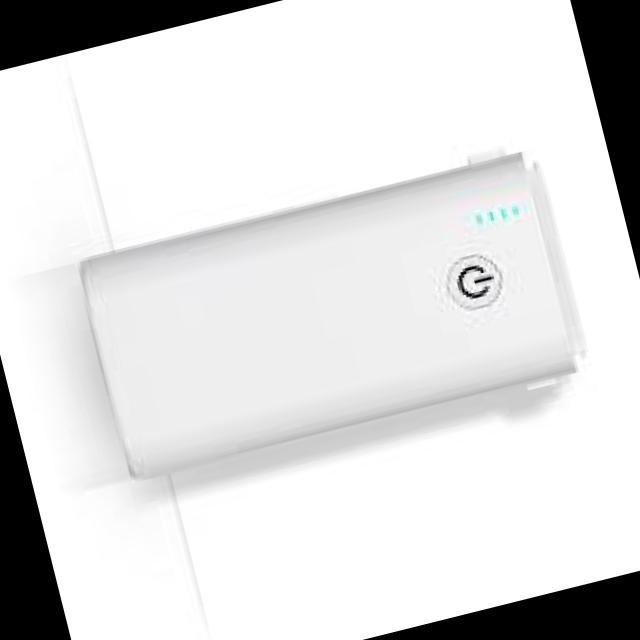portable-charger: (63, 134, 602, 493)
